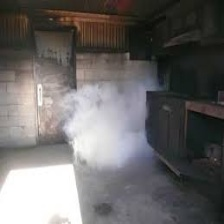smoke: (65, 101, 139, 157)
